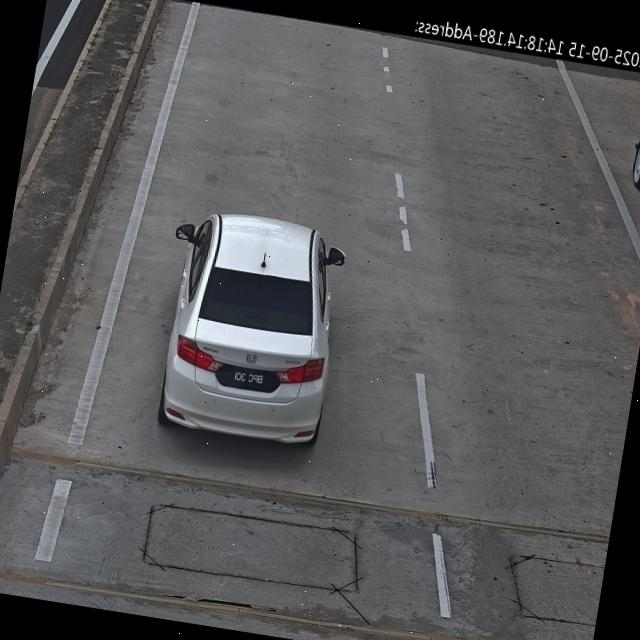back: (225, 366, 273, 394)
